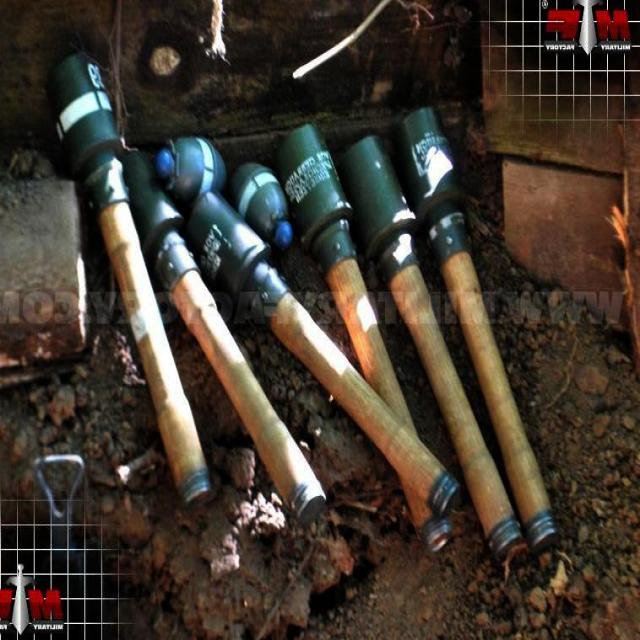grenade: (47, 52, 129, 219), (184, 185, 283, 322), (274, 122, 356, 273), (338, 133, 418, 287), (400, 105, 470, 273), (118, 148, 198, 286), (227, 159, 295, 256), (156, 130, 227, 206)
